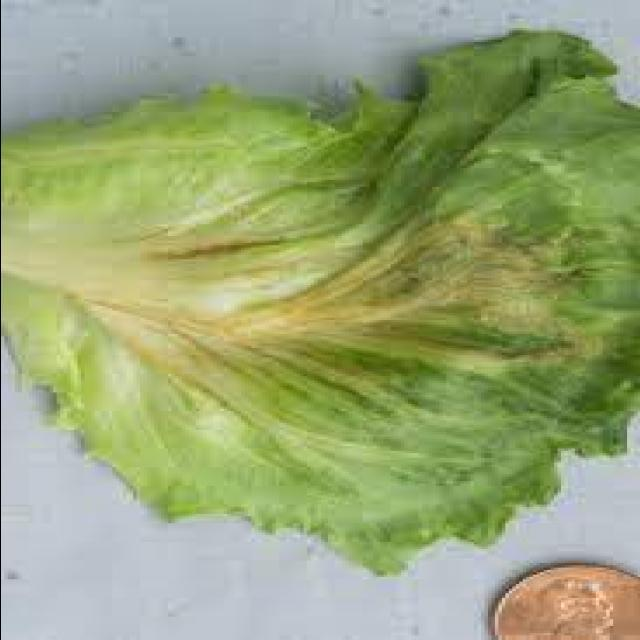Lettuce: (6, 31, 640, 580)
